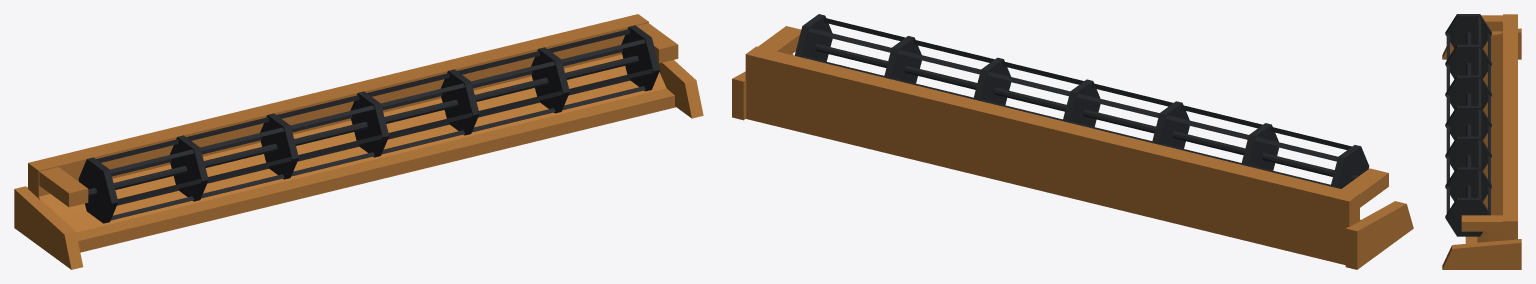
File: HarvesterReel_3.fbx
The picture shows the model from 3 angles, left to right: view 1: azimuth 30°, elevation 25°; view 2: azimuth 150°, elevation 25°; view 3: azimuth 270°, elevation 25°; orthographic projection. The views are drawn at different scales.
Parts seen in each view (by area): view 1: HarvesterReel_3; view 2: HarvesterReel_3; view 3: HarvesterReel_3.
Boxes of the visible parts, x1=… form: HarvesterReel_3: x1=14, y1=14, x2=703, y2=269; HarvesterReel_3: x1=732, y1=14, x2=1413, y2=269; HarvesterReel_3: x1=1442, y1=14, x2=1521, y2=269.
Size of the model in its own units: 502 by 62.16 by 78.76.
